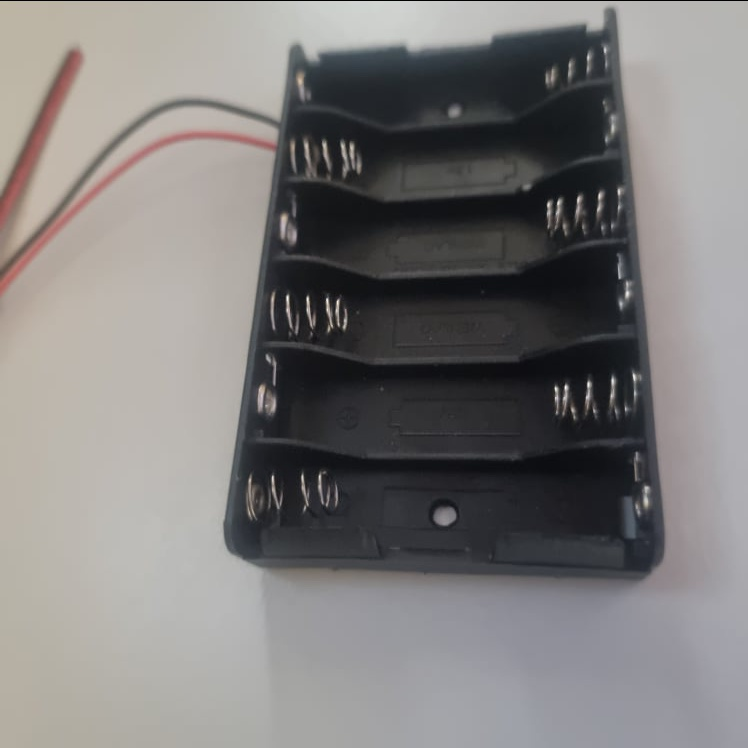BATTERY BOX: (214, 6, 665, 579)
